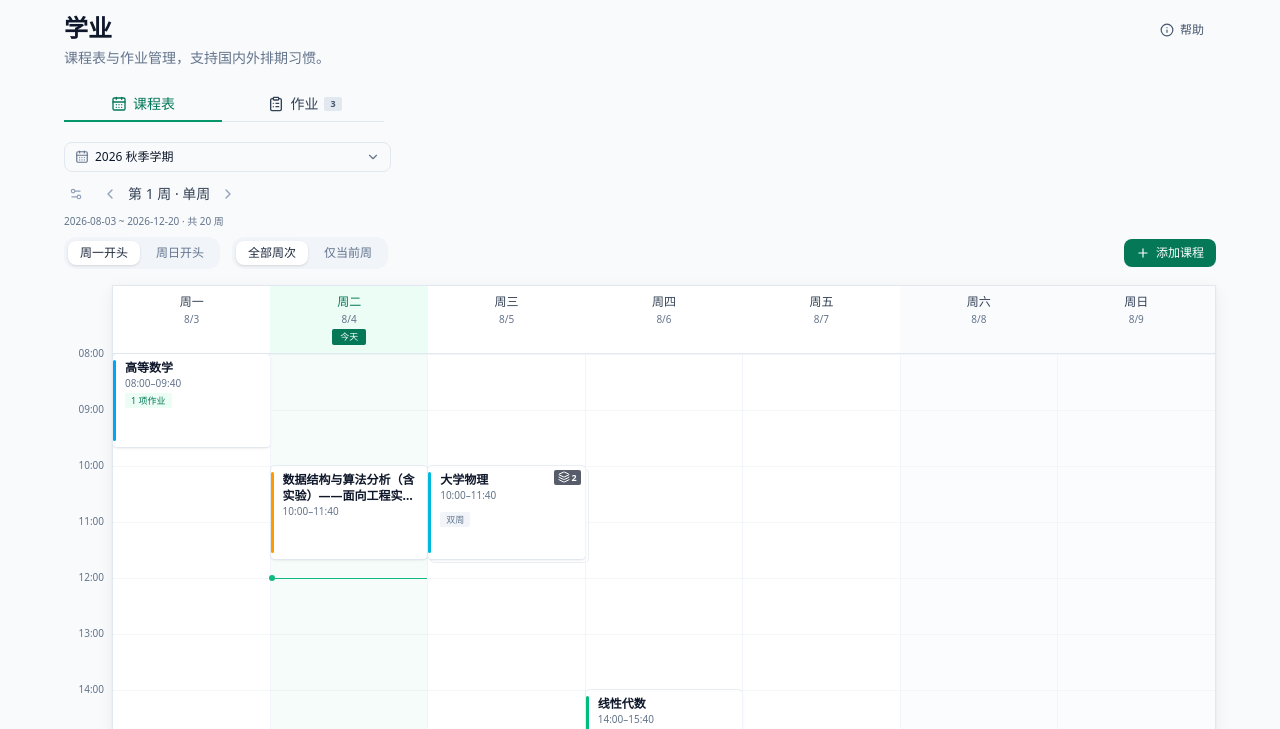
Test case: StudyPage › 仅当前周过滤单双周课程
Step 1. Click the button "仅当前周" → (348, 253), box x1=312 y1=241 x2=384 y2=265
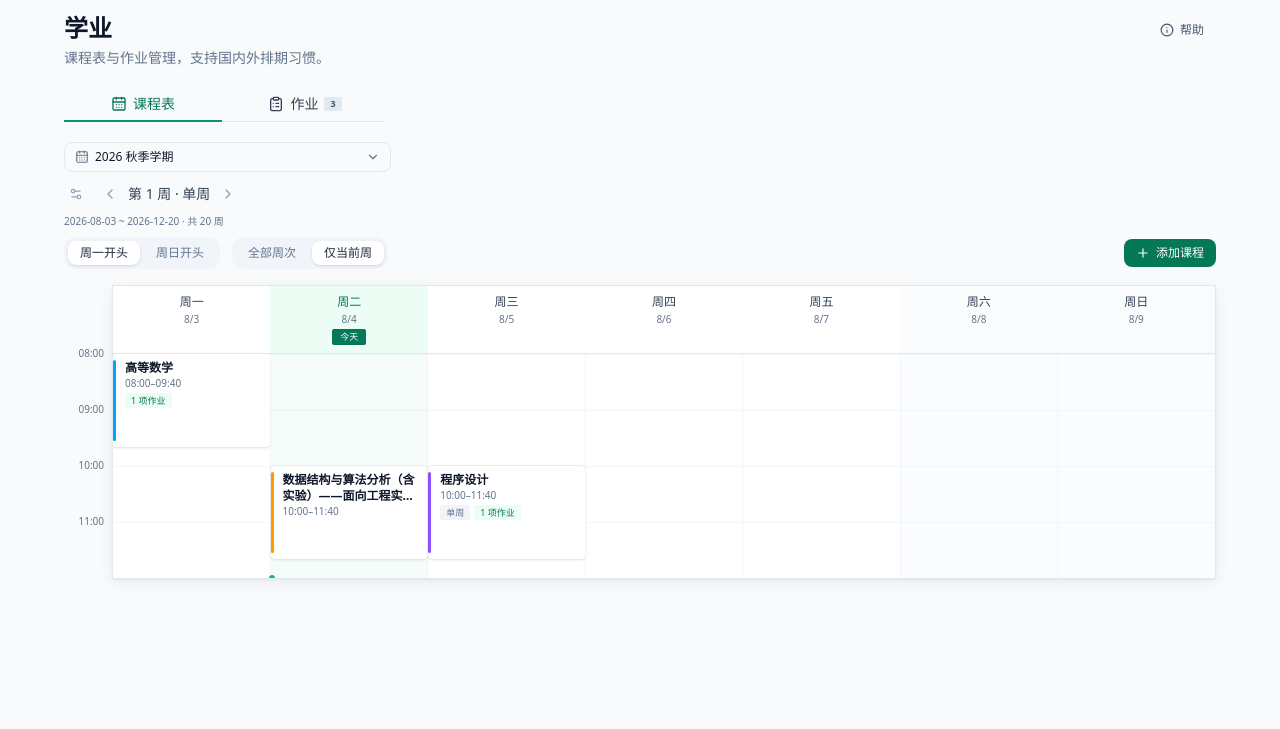
expect the text "程序设计" is shown: met, box x1=440 y1=470 x2=488 y2=488
expect the button "线性代数" is gone: met
Step 2. Click the button "全部周次" → (272, 253), box x1=236 y1=241 x2=308 y2=265
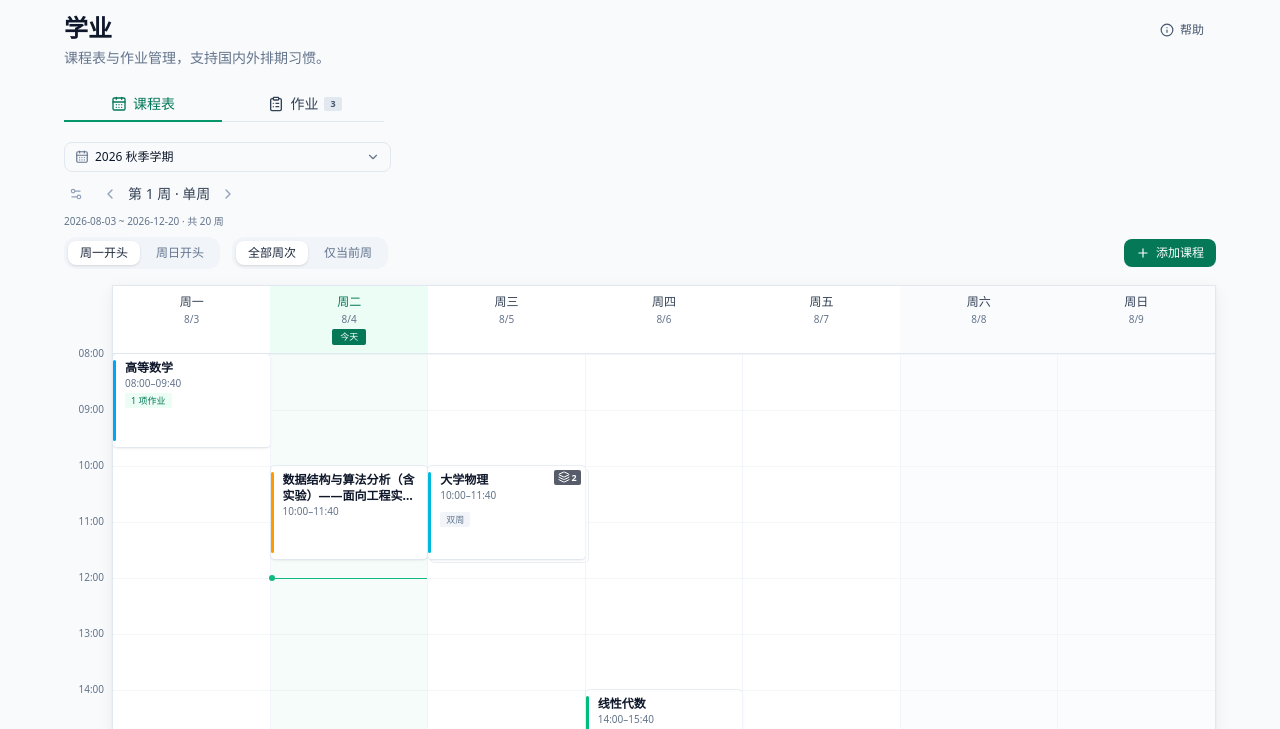
expect the text "线性代数" is shown: met, box x1=598 y1=694 x2=646 y2=712
